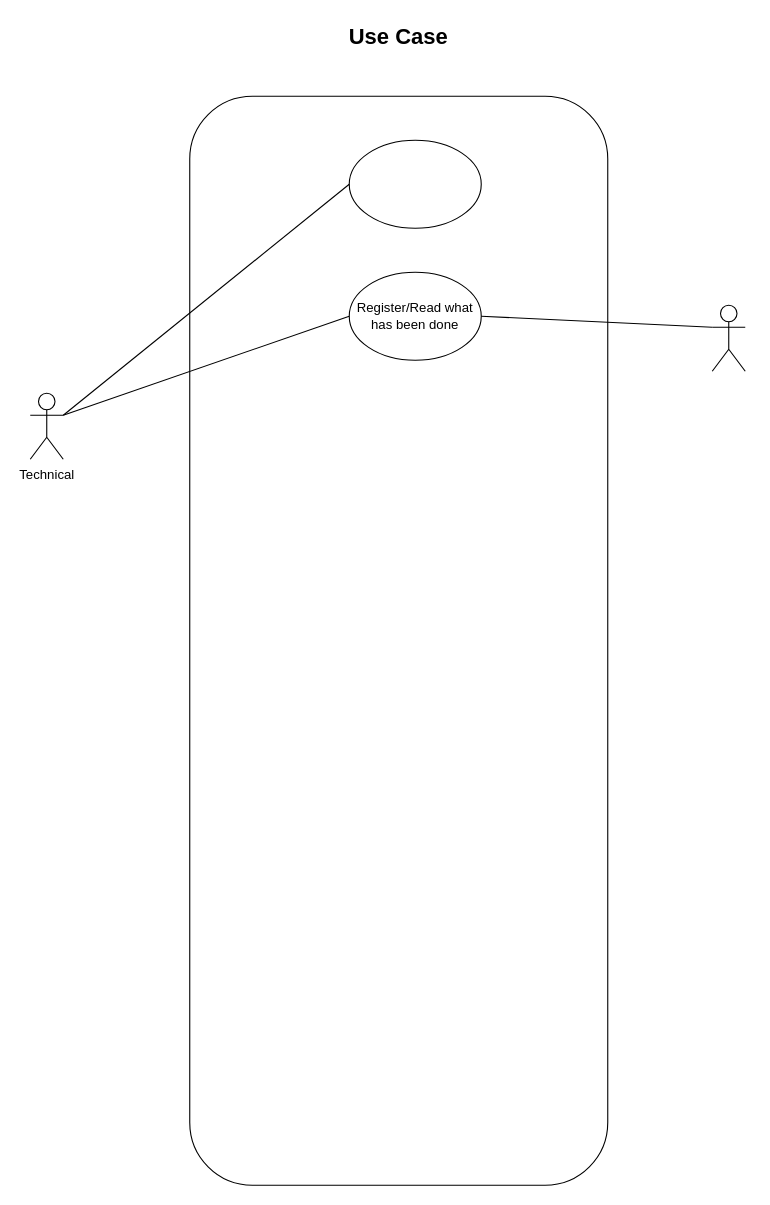
Image size: 770x1205. Some labels were removed from this diagram. Here are the shapes that lost their labels. From the top down, the centre of each, then its label:
(414,183): Label the air conditioning with QR Code
(728,337): Storage
